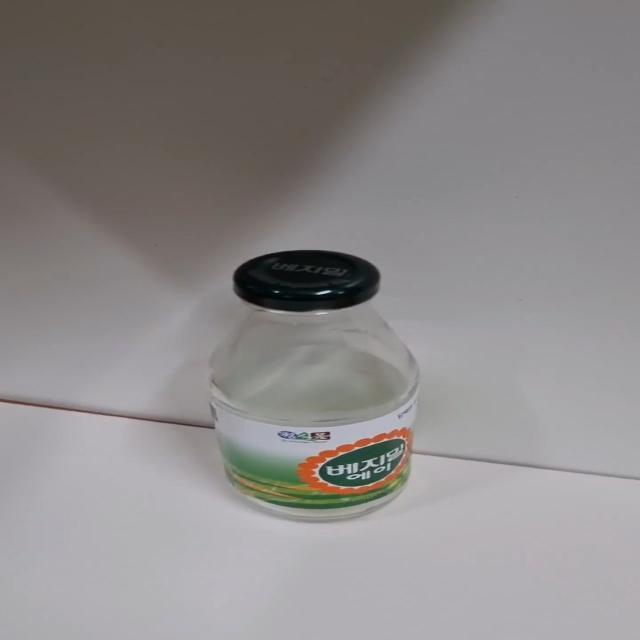Glass: (198, 245, 427, 526)
